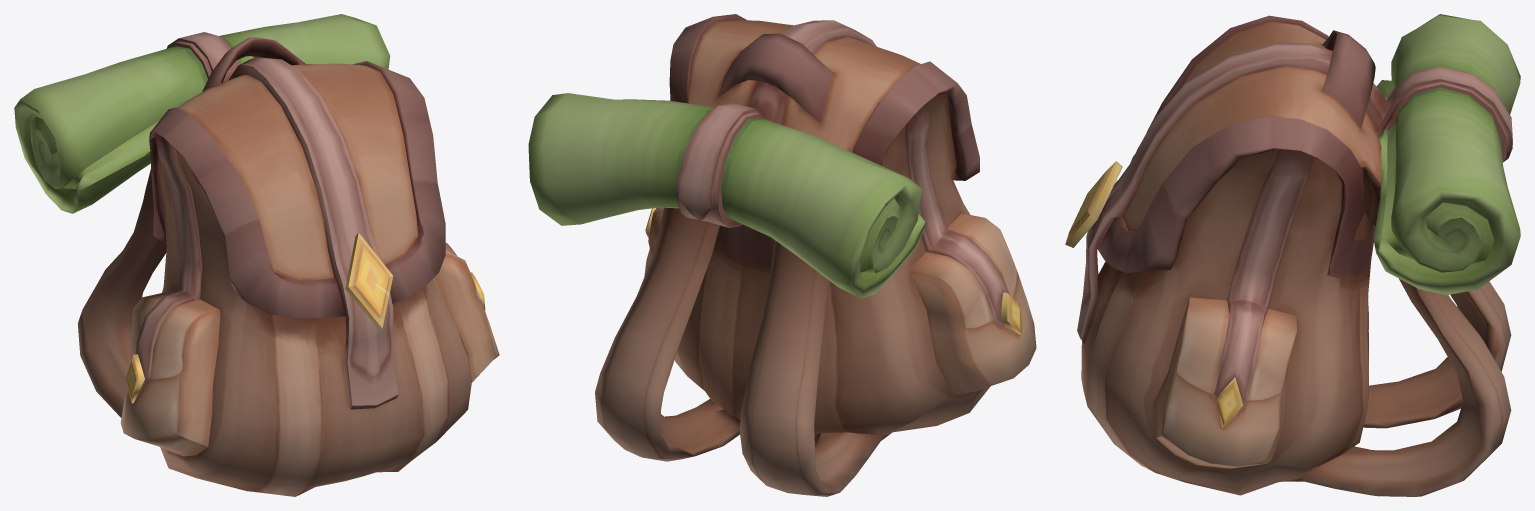
The picture shows the model from 3 angles, left to right: view 1: azimuth 30°, elevation 25°; view 2: azimuth 150°, elevation 25°; view 3: azimuth 270°, elevation 25°; orthographic projection. The views are drawn at different scales.
Parts seen in each view (by area): view 1: M_BackPack_LOD0; view 2: M_BackPack_LOD0; view 3: M_BackPack_LOD0.
Part boxes in pixels (x1,y1,x2,y2): M_BackPack_LOD0: (14,14,499,496); M_BackPack_LOD0: (528,14,1036,496); M_BackPack_LOD0: (1065,14,1520,496).
Size of the model in its own units: 3.27 by 3.47 by 3.37.
